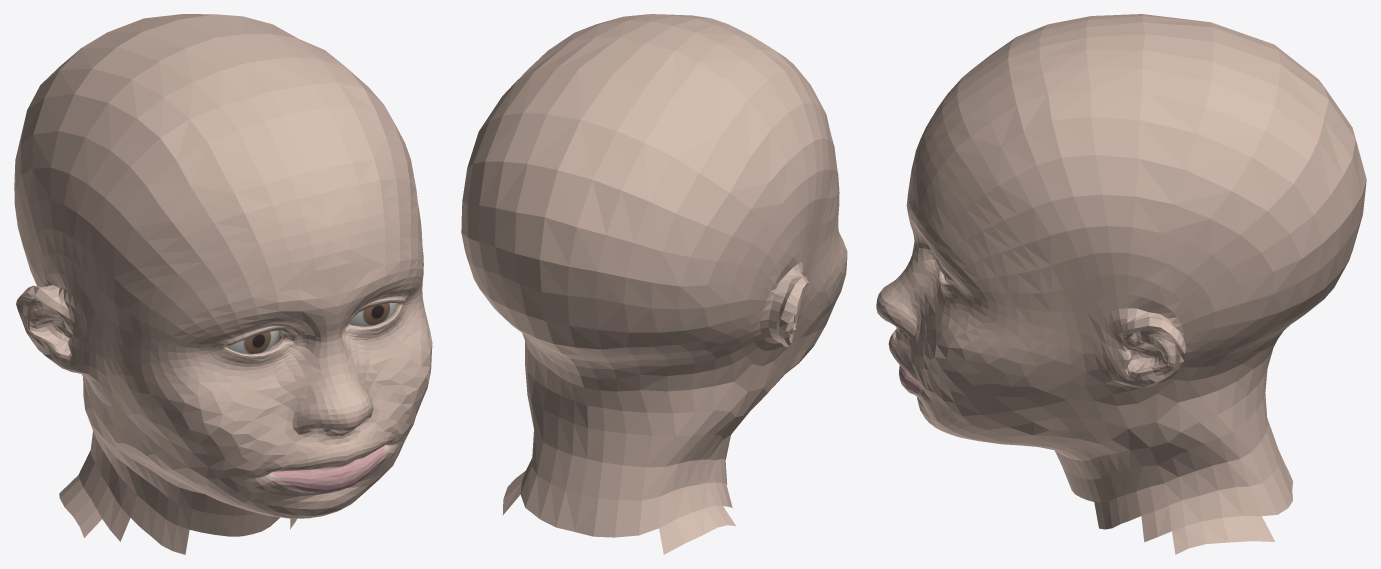
Rendered from karma_face_MH_neutral_AE.glb.
3 views of the same model, side by side, from view 1: azimuth 30°, elevation 25°; view 2: azimuth 150°, elevation 25°; view 3: azimuth 270°, elevation 25° (orthographic). The views are drawn at different scales.
Parts seen in each view (by area): view 1: head; view 2: head; view 3: head.
Boxes of the visible parts, x1=… form: head: x1=14, y1=14, x2=432, y2=554; head: x1=461, y1=14, x2=847, y2=554; head: x1=876, y1=14, x2=1366, y2=554.
Bounding box in the file's own units: 3.03 × 3.91 × 3.7.
